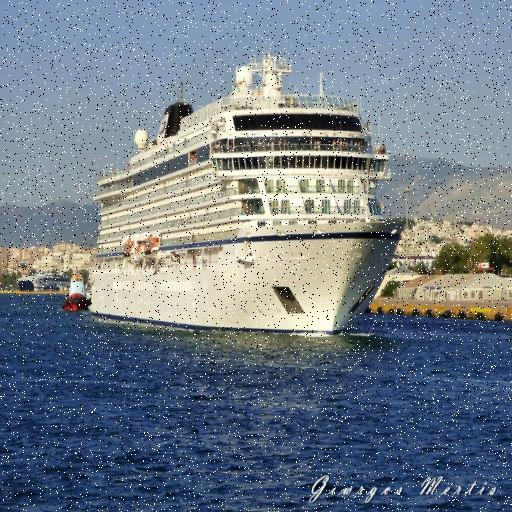cruises: (85, 51, 411, 342)
